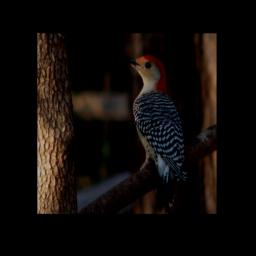Woodpecker: (115, 53, 188, 209)
